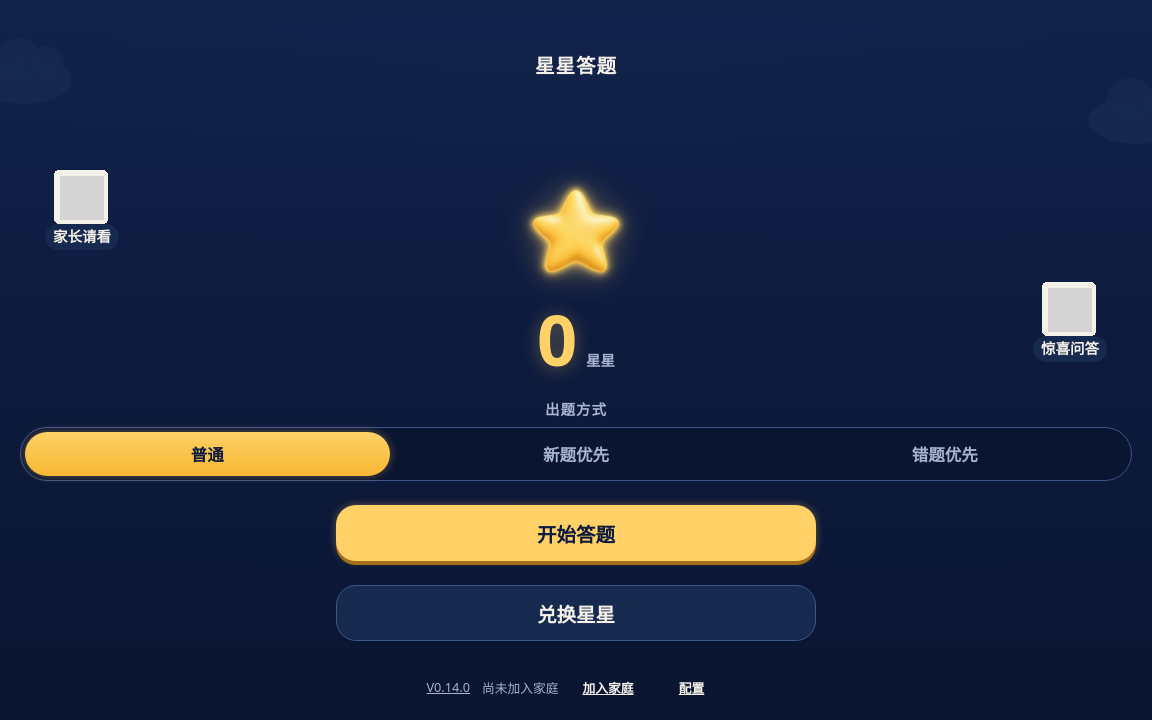
Test: #287 题集缺失/损坏：题库按空处理，入口照常、兜底提示可重试 › 重试成功：点「重试」重新预热，题集就绪后弹窗响应式切回介绍文案 + 开局钮
Click the button with class "trivia-sticker". click: (1070, 310)
box: x1=1048 y1=288 x2=1092 y2=332
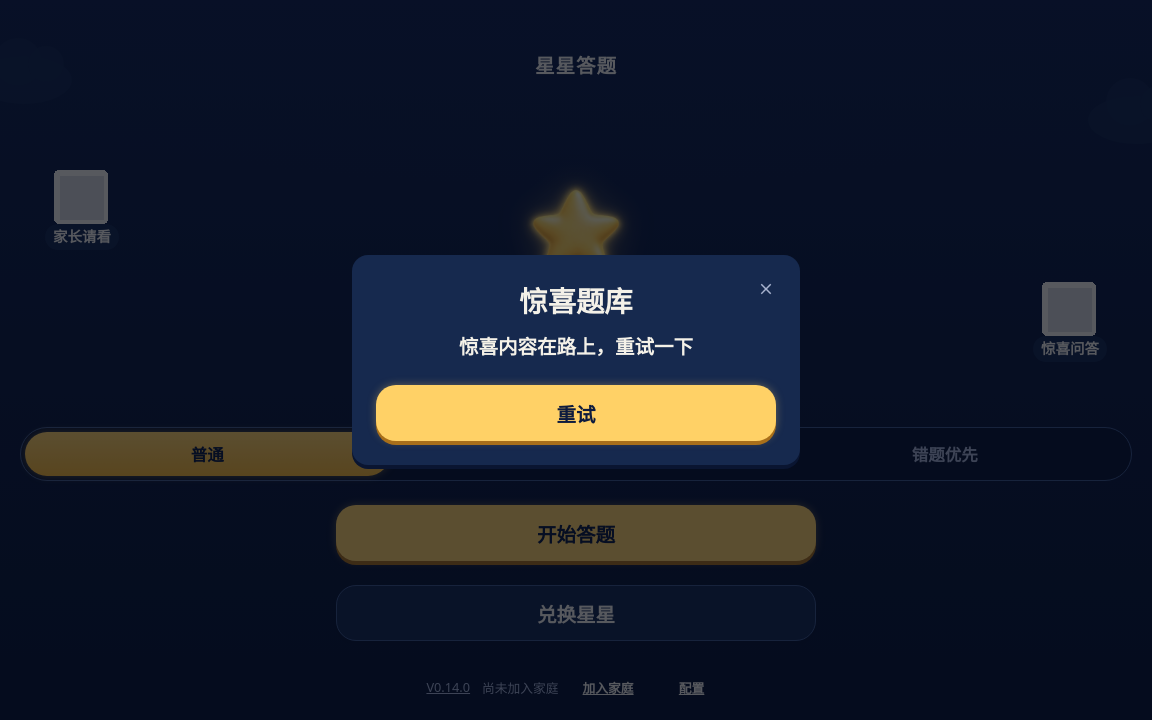
Expected: the dialog with class "star-modal" shows "惊喜内容在路上，重试一下", x1=459 y1=333 x2=693 y2=360
Click the button with class "star-button--primary" showing "重试". click: (576, 413)
box: x1=376 y1=385 x2=776 y2=441
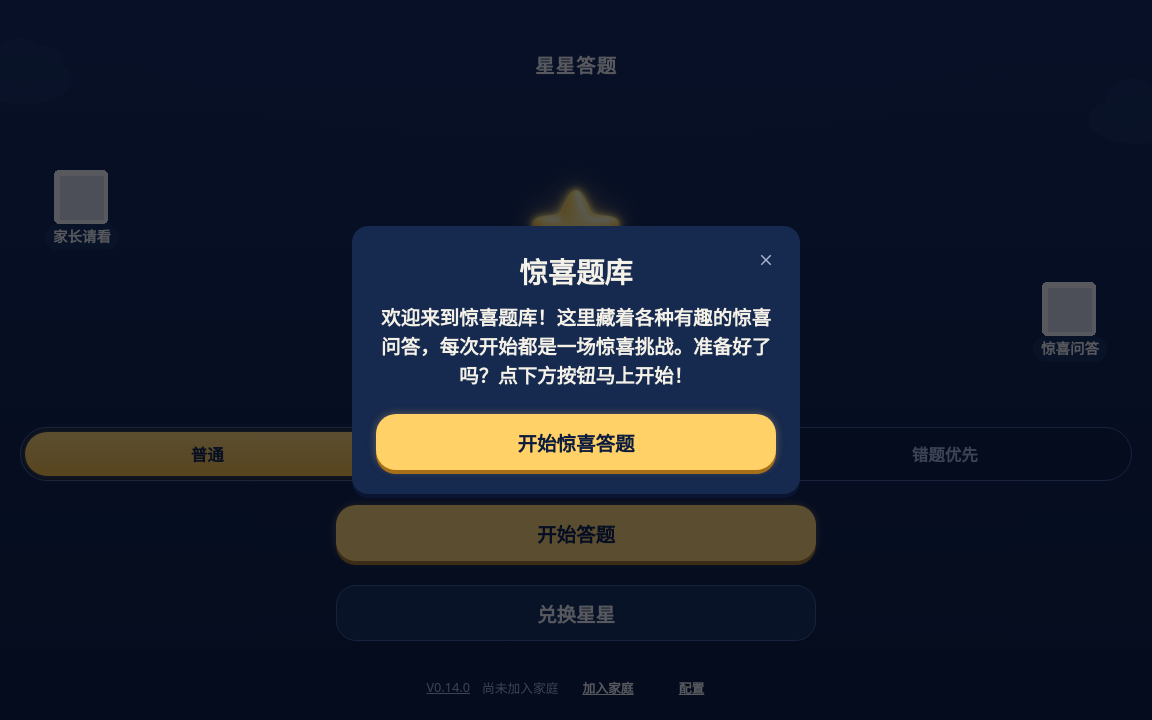
Expected: the text "欢迎来到惊喜题库！这里藏着各种有趣的惊喜问答，每次开始都是一场惊喜挑战。准备好了吗？点下方按钮马上开始！" is shown, x1=376 y1=303 x2=776 y2=390
Expected: the dialog with class "star-modal" shows "欢迎来到惊喜题库！这里藏着各种有趣的惊喜问答，每次开始都是一场惊喜挑战。准备好了吗？点下方按钮马上开始！", x1=381 y1=304 x2=771 y2=389
Expected: the dialog with class "star-modal" shows "开始惊喜答题", x1=376 y1=414 x2=776 y2=470
